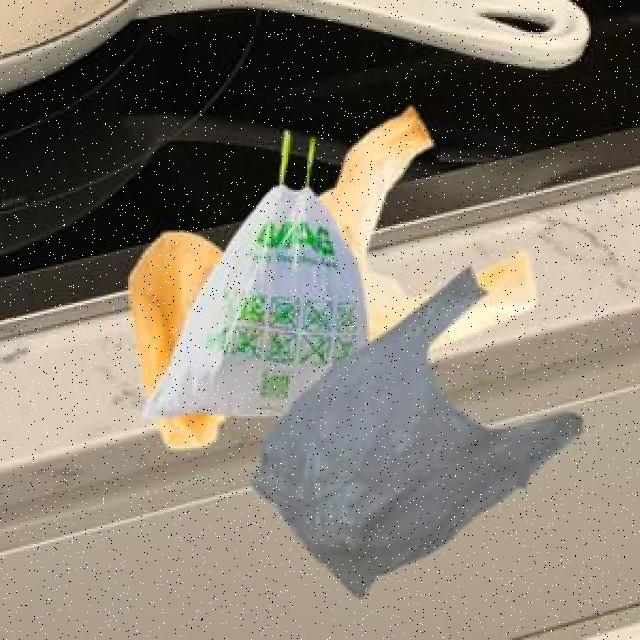plastic_bag: (147, 182, 585, 602)
